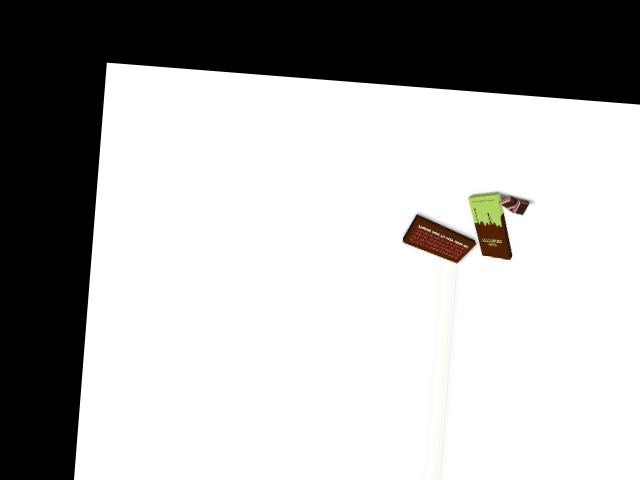chocolate: (467, 187, 512, 260)
